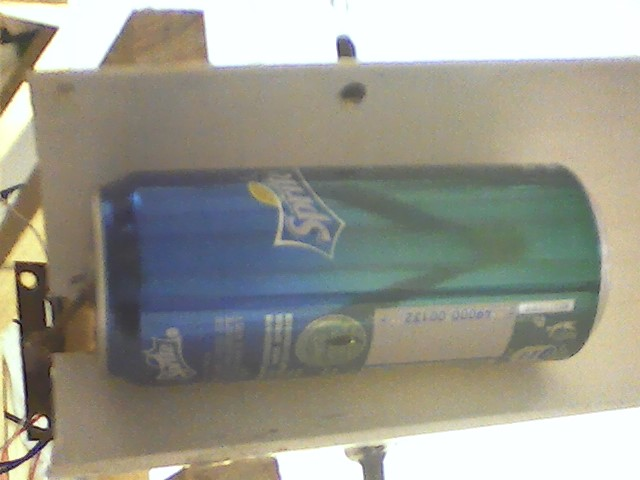lata: (88, 161, 612, 389)
